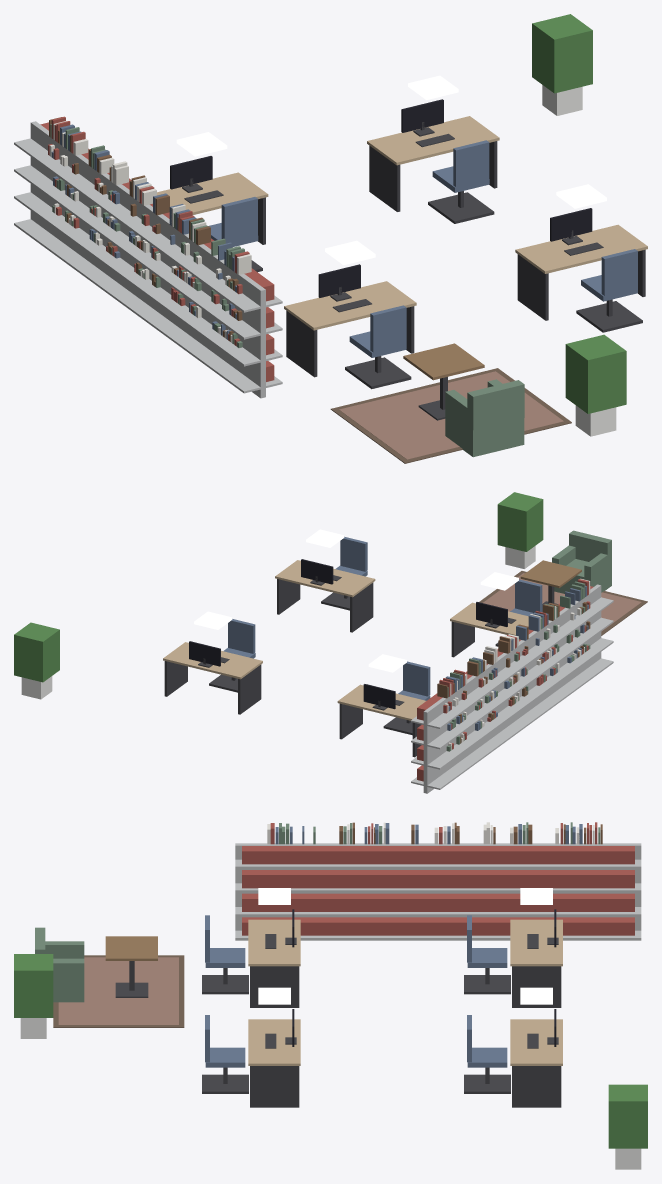
The model's file is fine-s3.glb.
The picture shows the model from 3 angles, top to bottom: view 1: azimuth 30°, elevation 25°; view 2: azimuth 150°, elevation 25°; view 3: azimuth 270°, elevation 25°; orthographic projection. The views are drawn at different scales.
Visible parts, largest first — view 1: soft-s3, shelving.015, shelving.011, office-desk-real.009, office-desk-real.010, office-desk-real.011, plant-medium.004, plant-medium.005, shelving.014, sofa.002, shelving.012, shelving.013 (+10 smaller); view 2: soft-s3, shelving.011, shelving.015, office-desk-real.009, office-desk-real.011, shelving.012, plant-medium.004, plant-medium.005, shelving.014, shelving.013, office-desk-real.008, sofa.002 (+10 smaller); view 3: soft-s3, shelving.011, shelving.014, shelving.013, shelving.015, shelving.012, office-desk-real.009, office-desk-real.011, office-desk-real.008, office-desk-real.010, plant-medium.005, plant-medium.004 (+10 smaller).
Boxes of the visible parts, <box> form: soft-s3: <box>48,116,571,463</box>; shelving.015: <box>177,243,282,398</box>; shelving.011: <box>14,121,97,272</box>; office-desk-real.009: <box>367,99,499,211</box>; office-desk-real.010: <box>284,264,416,377</box>; office-desk-real.011: <box>515,208,647,320</box>; plant-medium.004: <box>565,334,626,436</box>; plant-medium.005: <box>532,14,592,115</box>; shelving.014: <box>136,213,224,362</box>; sofa.002: <box>445,379,524,457</box>; shelving.012: <box>54,152,138,301</box>; shelving.013: <box>95,182,178,332</box>; soft-s3: <box>437,571,647,751</box>; shelving.011: <box>411,675,490,793</box>; shelving.015: <box>549,584,613,699</box>; office-desk-real.009: <box>163,641,262,714</box>; office-desk-real.011: <box>275,559,375,632</box>; shelving.012: <box>458,653,521,766</box>; plant-medium.004: <box>497,492,543,568</box>; plant-medium.005: <box>14,622,59,699</box>; shelving.014: <box>519,608,582,719</box>; shelving.013: <box>486,631,551,740</box>; office-desk-real.008: <box>337,684,425,757</box>; sofa.002: <box>552,530,611,593</box>; soft-s3: <box>53,822,602,1027</box>; shelving.011: <box>523,843,641,940</box>; shelving.014: <box>307,843,425,940</box>; shelving.013: <box>379,843,497,940</box>; shelving.015: <box>235,843,353,940</box>; shelving.012: <box>451,843,569,940</box>; office-desk-real.009: <box>510,1009,562,1107</box>; office-desk-real.011: <box>248,1009,300,1107</box>; office-desk-real.008: <box>510,909,562,1007</box>; office-desk-real.010: <box>248,909,300,1007</box>; plant-medium.005: <box>608,1084,647,1169</box>; plant-medium.004: <box>14,954,53,1038</box>.
Size of the model in its own units: 8.72 by 1.93 by 9.68.
